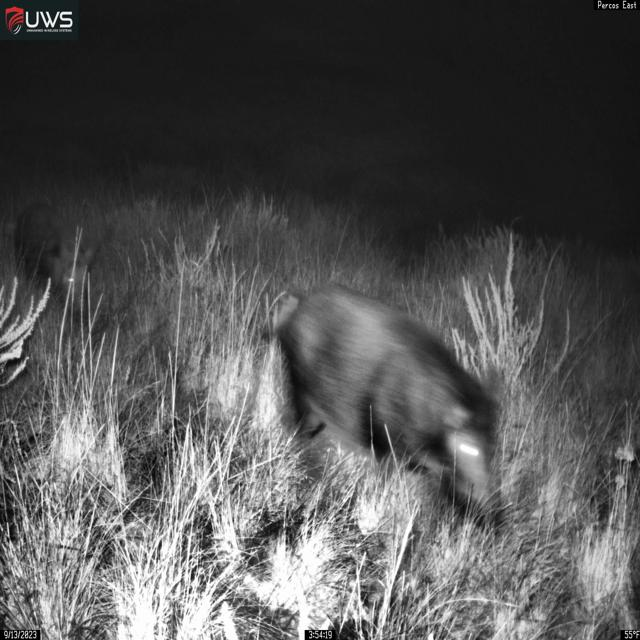pig: (272, 282, 503, 532)
